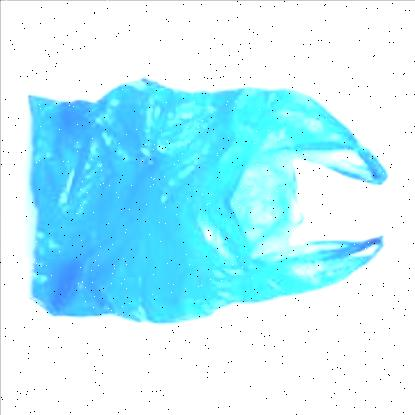Others: (28, 79, 386, 326)
